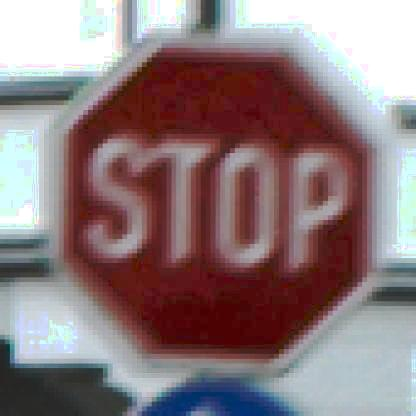Stop Sign: (48, 32, 383, 377)
